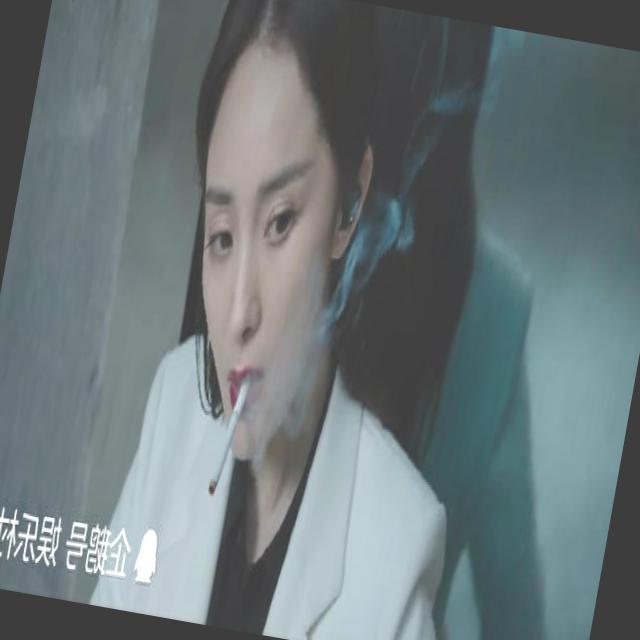cigarette: (205, 372, 252, 507)
